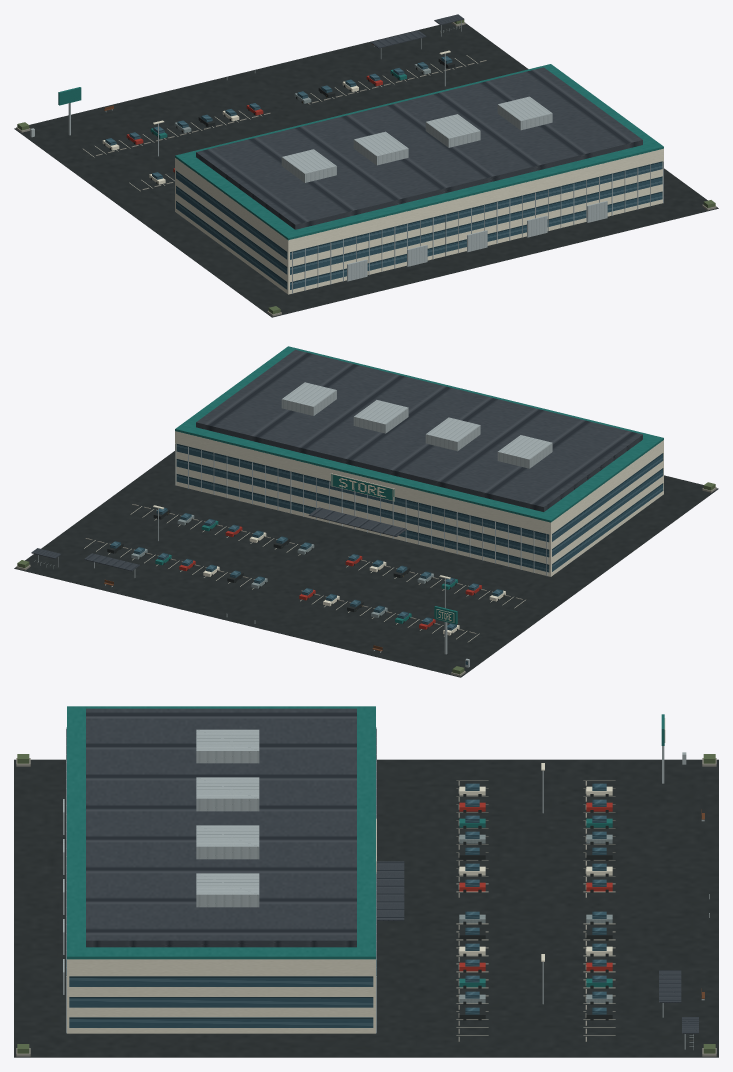
File: shopping_mall_001.obj
3 views of the same model, one above another, from view 1: azimuth 30°, elevation 25°; view 2: azimuth 150°, elevation 25°; view 3: azimuth 270°, elevation 25° (orthographic). The views are drawn at different scales.
Parts seen in each view (by area): view 1: shopping_mall_001; view 2: shopping_mall_001; view 3: shopping_mall_001.
Part boxes in pixels (box(x1,y1,x2,y2)): shopping_mall_001: box(14, 14, 718, 317); shopping_mall_001: box(14, 346, 718, 677); shopping_mall_001: box(14, 706, 718, 1057).
Size of the model in its own units: 112 by 16.9 by 112.
1 material, 1 textured.
